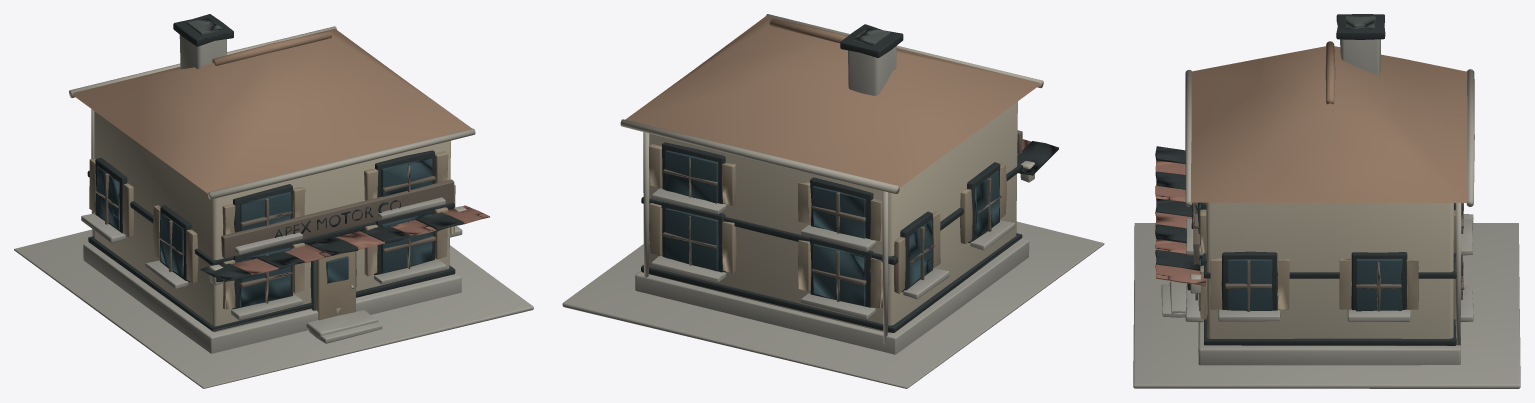
File: district_art_0.glb
3 views of the same model, side by side, from view 1: azimuth 30°, elevation 25°; view 2: azimuth 150°, elevation 25°; view 3: azimuth 270°, elevation 25° (orthographic). The views are drawn at different scales.
Visible parts, largest first — view 1: roof, stone, plaster, trim, glass, wood, timber, metal, cloth, dark; view 2: roof, stone, plaster, glass, trim, wood, metal, timber; view 3: roof, stone, plaster, trim, glass, wood, metal, cloth, timber, dark.
Part boxes in pixels (x1=…): roof: x1=73, y1=28, x2=471, y2=194; stone: x1=14, y1=35, x2=533, y2=388; plaster: x1=94, y1=111, x2=450, y2=332; trim: x1=87, y1=14, x2=463, y2=331; glass: x1=97, y1=157, x2=432, y2=307; wood: x1=89, y1=151, x2=455, y2=320; timber: x1=95, y1=164, x2=454, y2=303; metal: x1=69, y1=26, x2=475, y2=288; cloth: x1=231, y1=205, x2=489, y2=275; dark: x1=186, y1=18, x2=356, y2=310; roof: x1=625, y1=15, x2=1041, y2=187; stone: x1=562, y1=46, x2=1104, y2=388; plaster: x1=649, y1=101, x2=1017, y2=333; glass: x1=665, y1=150, x2=999, y2=305; trim: x1=641, y1=24, x2=1058, y2=332; wood: x1=649, y1=144, x2=1006, y2=308; metal: x1=620, y1=14, x2=1043, y2=344; timber: x1=663, y1=130, x2=1022, y2=301; roof: x1=1189, y1=41, x2=1467, y2=202; stone: x1=1133, y1=39, x2=1520, y2=388; plaster: x1=1206, y1=202, x2=1453, y2=345; trim: x1=1155, y1=14, x2=1456, y2=345; glass: x1=1197, y1=202, x2=1461, y2=311; wood: x1=1199, y1=209, x2=1455, y2=319; metal: x1=1185, y1=69, x2=1474, y2=345; cloth: x1=1155, y1=160, x2=1206, y2=285; timber: x1=1193, y1=202, x2=1464, y2=311; dark: x1=1344, y1=16, x2=1375, y2=28.
Bounding box in the file's own units: 12.5 × 9.29 × 12.5.
